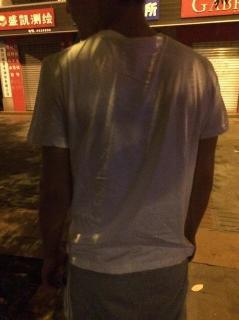short sleeve top: (26, 30, 231, 275)
trousers: (62, 252, 189, 319)
